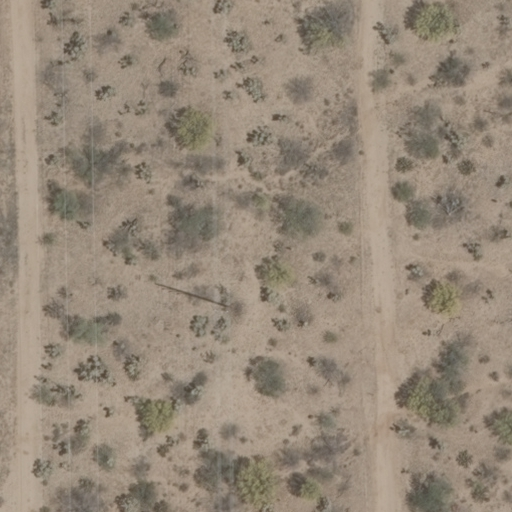DT: (209, 297, 242, 326)
